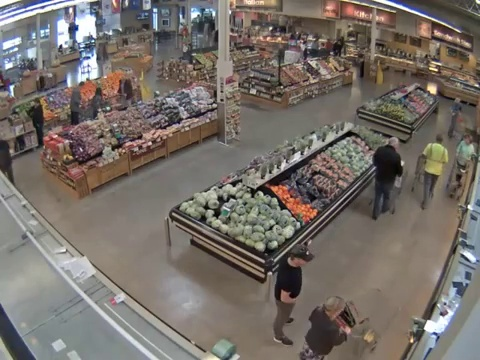face: (294, 252, 307, 268), (461, 135, 471, 145)
